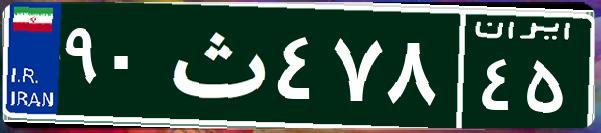0: (110, 28, 158, 105)
4: (273, 28, 330, 110), (475, 38, 525, 113)
5: (525, 38, 570, 115)
7: (330, 28, 385, 110)
8: (385, 28, 445, 110)
9: (57, 26, 110, 107)
ث: (158, 15, 273, 115)
